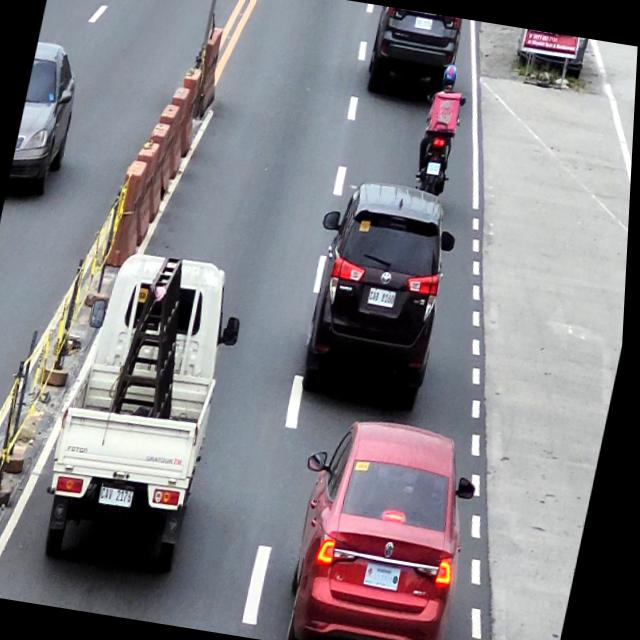Car: (276, 412, 496, 640), (292, 173, 468, 416), (8, 41, 88, 203), (364, 6, 465, 105)
License-Plate: (370, 563, 408, 590), (103, 486, 140, 508), (371, 288, 399, 308), (414, 16, 433, 29), (428, 163, 443, 175)
Motorcycle: (409, 91, 468, 198)
Truck: (37, 243, 258, 583)
